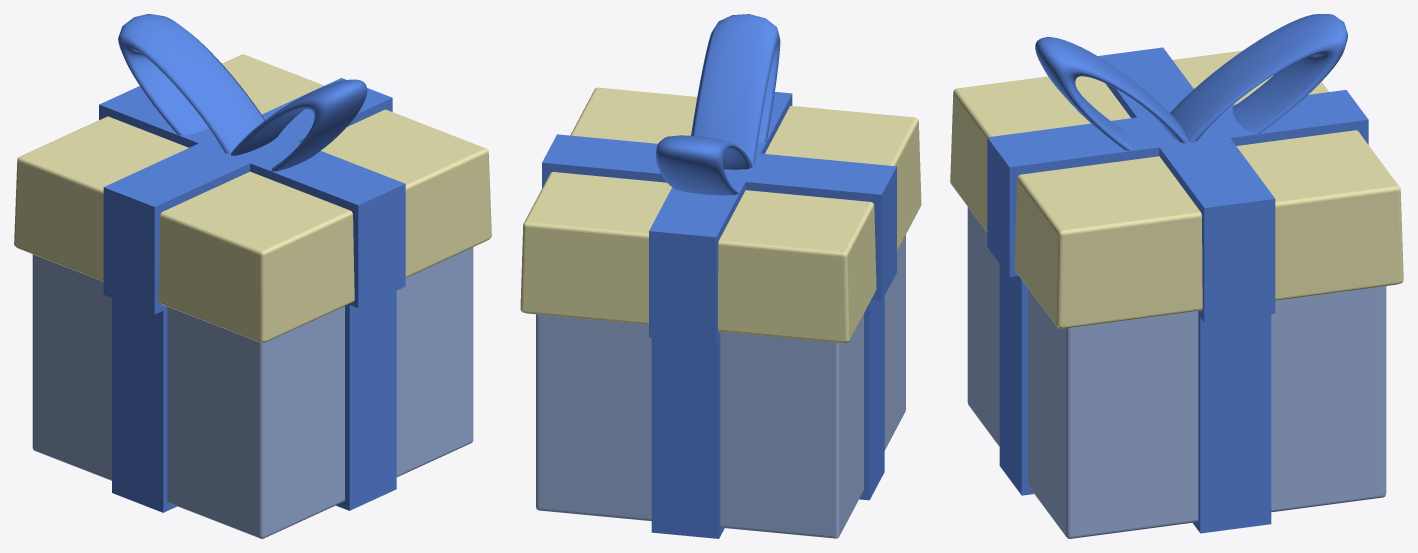
File: 礼物盒5.fbx
3 renders of one model, left to right at view 1: azimuth 30°, elevation 25°; view 2: azimuth 150°, elevation 25°; view 3: azimuth 270°, elevation 25°, orthographic. The views are drawn at different scales.
Parts seen in each view (by area): view 1: 立方体.088, 立方体.086, 立方体.084, 环体.011, 立方体.085, 环体.012; view 2: 立方体.088, 立方体.084, 立方体.086, 环体.012, 环体.011, 立方体.087; view 3: 立方体.088, 立方体.087, 立方体.084, 环体.011, 立方体.086, 立方体.085, 环体.012.
Boxes of the visible parts, bbox=[...] form: 立方体.088: bbox=[14, 54, 491, 538]; 立方体.086: bbox=[103, 82, 385, 512]; 立方体.084: bbox=[99, 86, 405, 307]; 环体.011: bbox=[118, 14, 265, 153]; 立方体.085: bbox=[336, 291, 396, 510]; 环体.012: bbox=[231, 79, 367, 171]; 立方体.088: bbox=[520, 87, 921, 538]; 立方体.084: bbox=[649, 92, 792, 538]; 立方体.086: bbox=[554, 135, 896, 500]; 环体.012: bbox=[691, 14, 780, 164]; 环体.011: bbox=[656, 135, 752, 195]; 立方体.087: bbox=[542, 134, 568, 188]; 立方体.088: bbox=[950, 50, 1403, 538]; 立方体.087: bbox=[1193, 193, 1275, 533]; 立方体.084: bbox=[987, 90, 1368, 276]; 环体.011: bbox=[1170, 14, 1347, 142]; 立方体.086: bbox=[1098, 47, 1270, 212]; 立方体.085: bbox=[999, 264, 1033, 495]; 环体.012: bbox=[1035, 37, 1188, 150].
Bounding box in the file's own units: 104 × 109 × 104.
